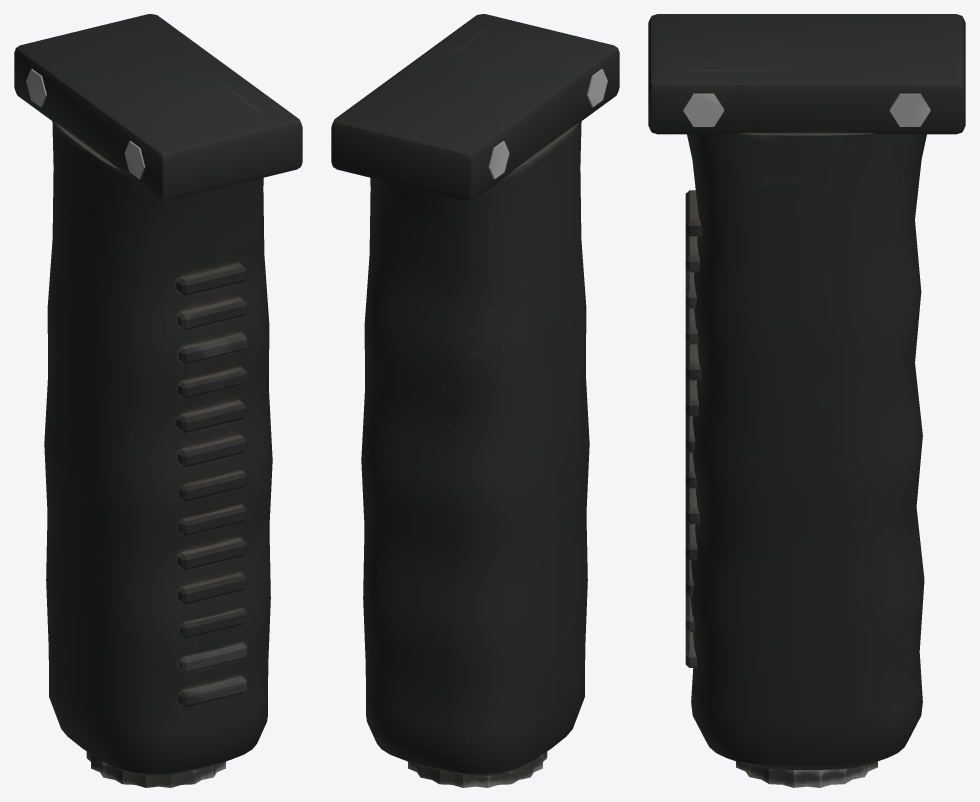
The model's file is empunhadura_vertical.glb.
3 views of the same model, side by side, from view 1: azimuth 30°, elevation 25°; view 2: azimuth 150°, elevation 25°; view 3: azimuth 270°, elevation 25° (orthographic). The views are drawn at different scales.
Parts seen in each view (by area): view 1: empunhadura_vertical_punho; view 2: empunhadura_vertical_punho; view 3: empunhadura_vertical_punho.
Part boxes in pixels (left/top/right/bottom): empunhadura_vertical_punho: left=14, top=14, right=302, bottom=787; empunhadura_vertical_punho: left=331, top=14, right=619, bottom=787; empunhadura_vertical_punho: left=648, top=14, right=965, bottom=787.
Size of the model in its own units: 0.0268 by 0.0993 by 0.04.
Materials: 1 (1 with a texture image).
